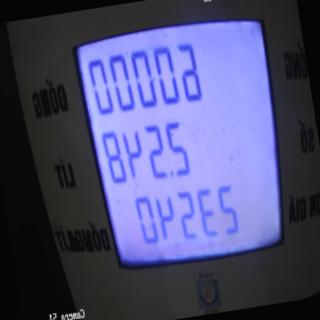screen: (65, 0, 307, 301)
